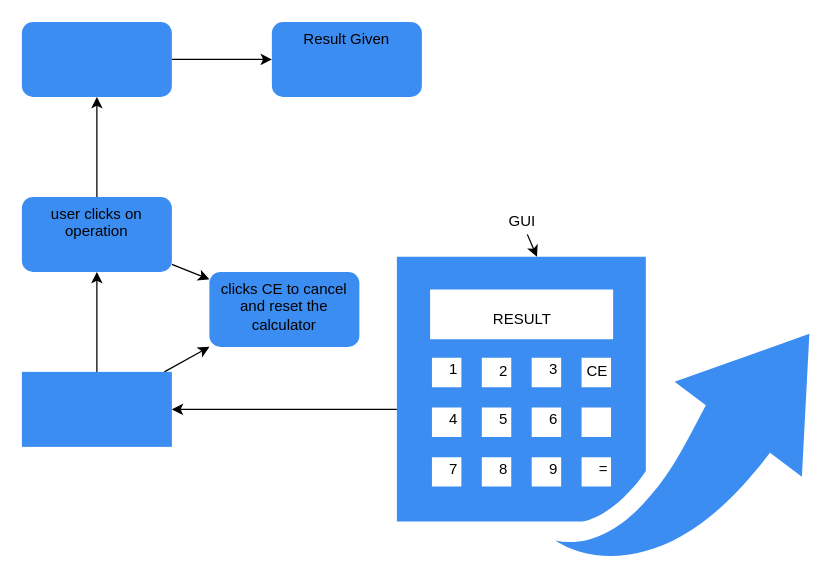
Some shapes in this 830 by 584 pixel diagram are drawn without their labels. The centre of each missing label's shape, as x and y in pixels:
"User clicks '=' button JS computes" goes at (x=96, y=58).
"User clicks on 2 numbers" goes at (x=96, y=408).
